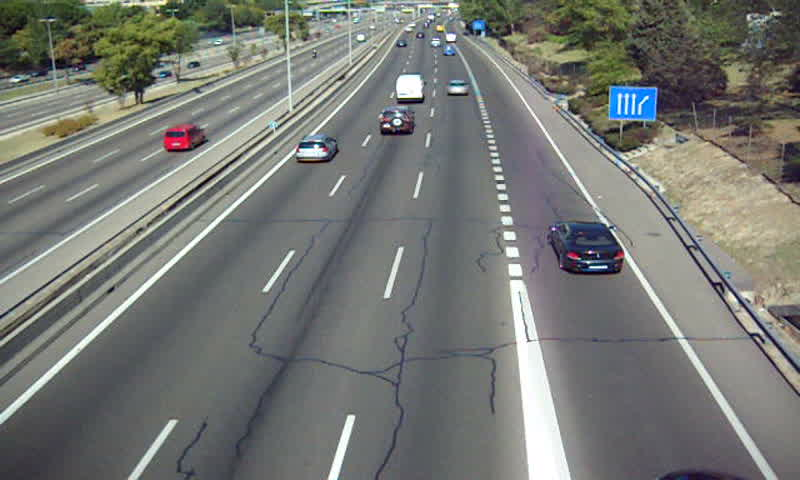car: (550, 222, 624, 273), (295, 134, 337, 163), (379, 106, 416, 134), (445, 78, 471, 96)
van: (395, 74, 426, 102)
